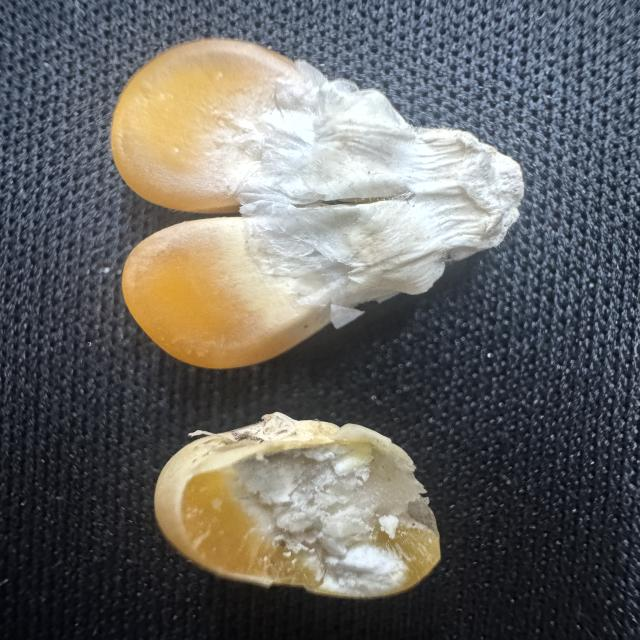Bad-Seed: (83, 29, 526, 376), (148, 404, 446, 604)
